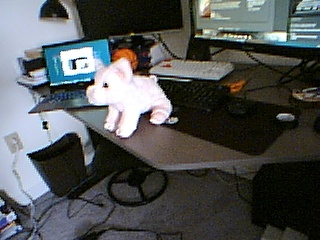piggy: (85, 57, 173, 140)
